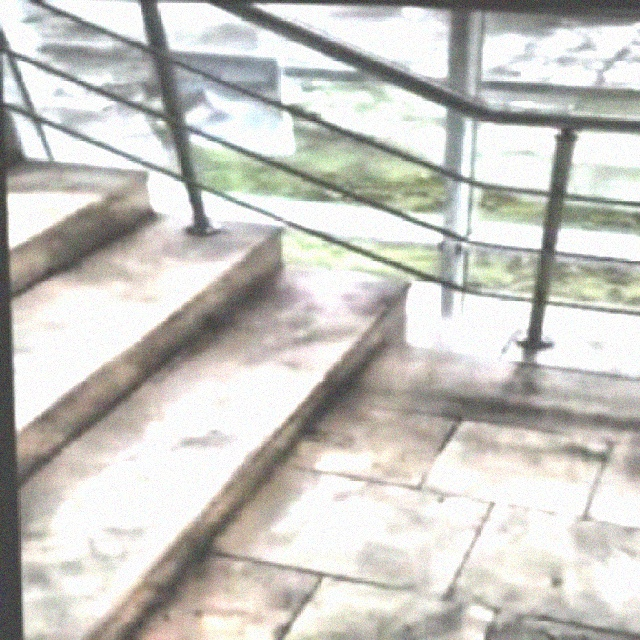stair: (2, 81, 468, 638)
